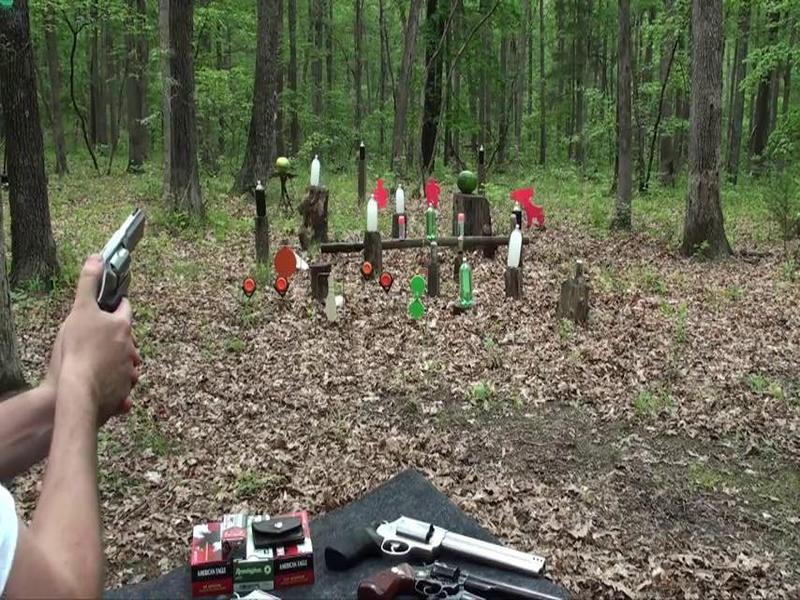Revolver: (68, 196, 163, 333)
